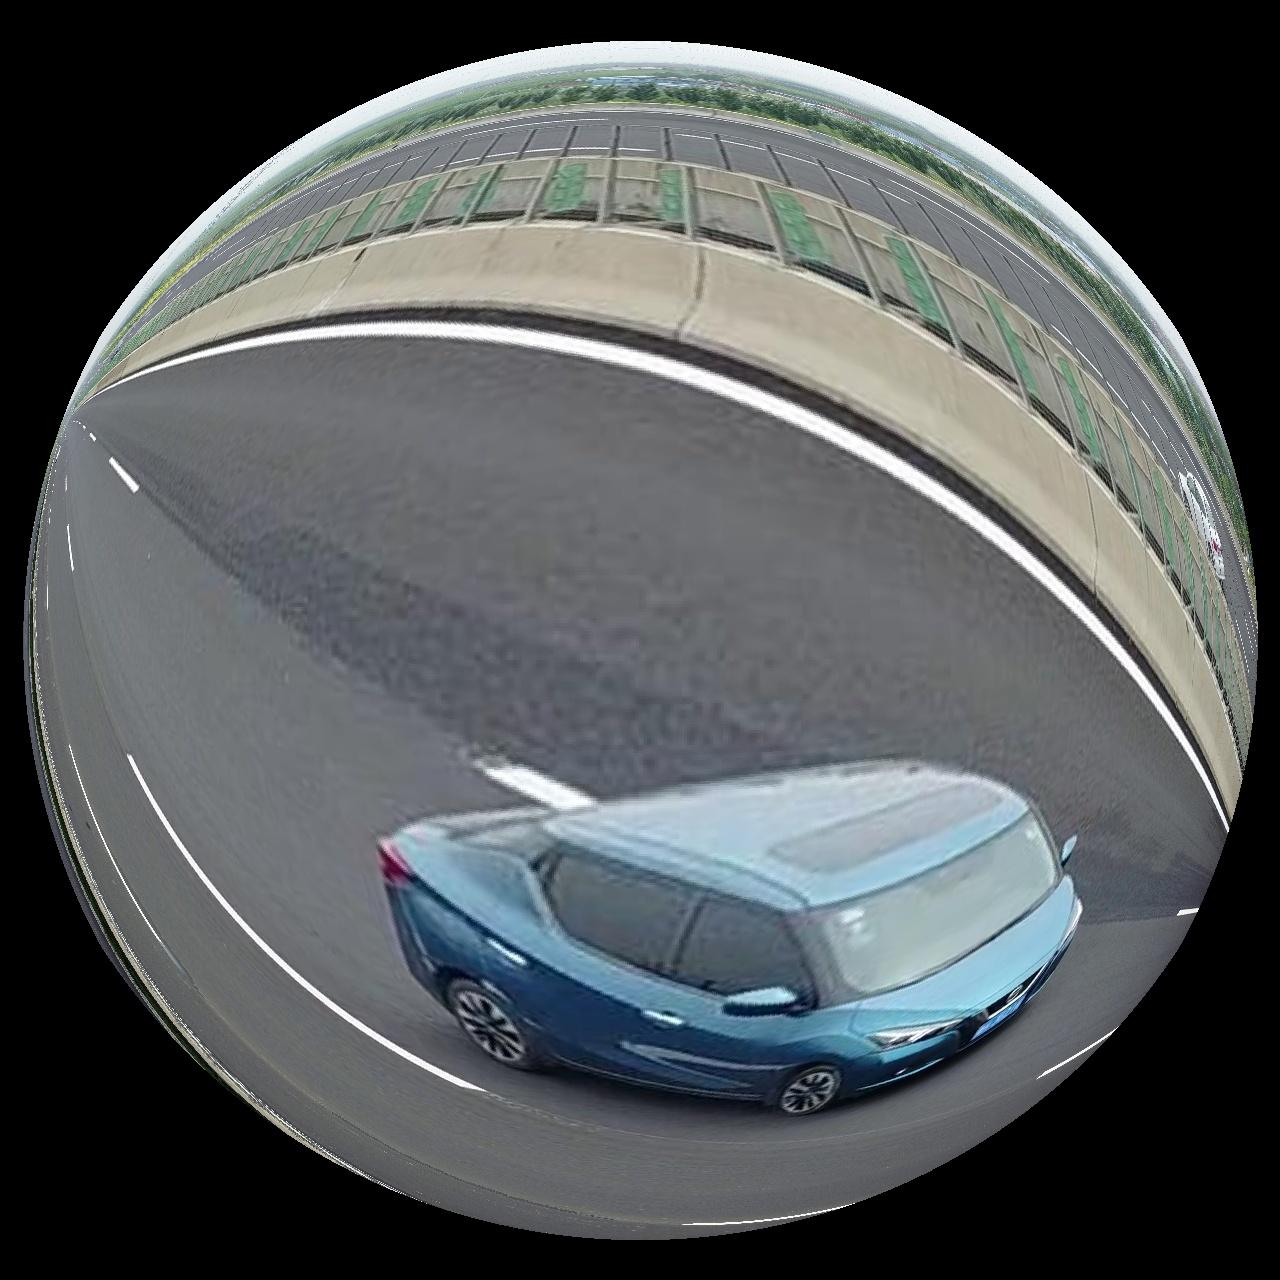cars: (377, 763, 1083, 1117)
